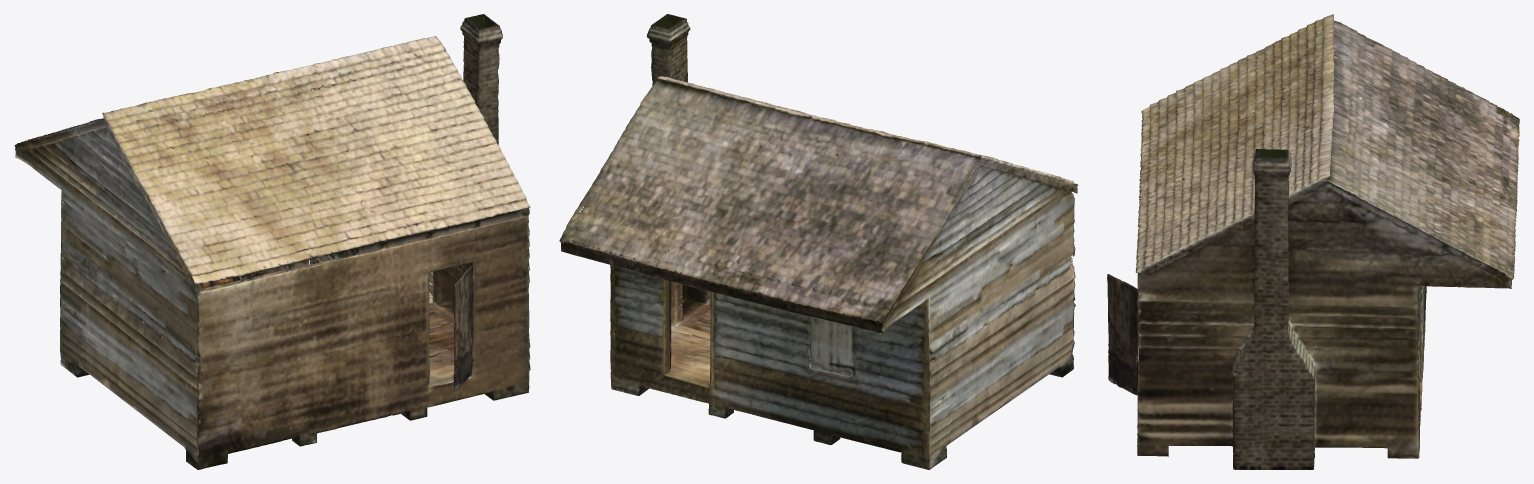
The model's file is preview.glb.
3 renders of one model, left to right at view 1: azimuth 30°, elevation 25°; view 2: azimuth 150°, elevation 25°; view 3: azimuth 270°, elevation 25°, orthographic.
Bounding box in the file's own units: 6.89 × 5.71 × 6.81.
1 material, 1 textured.
